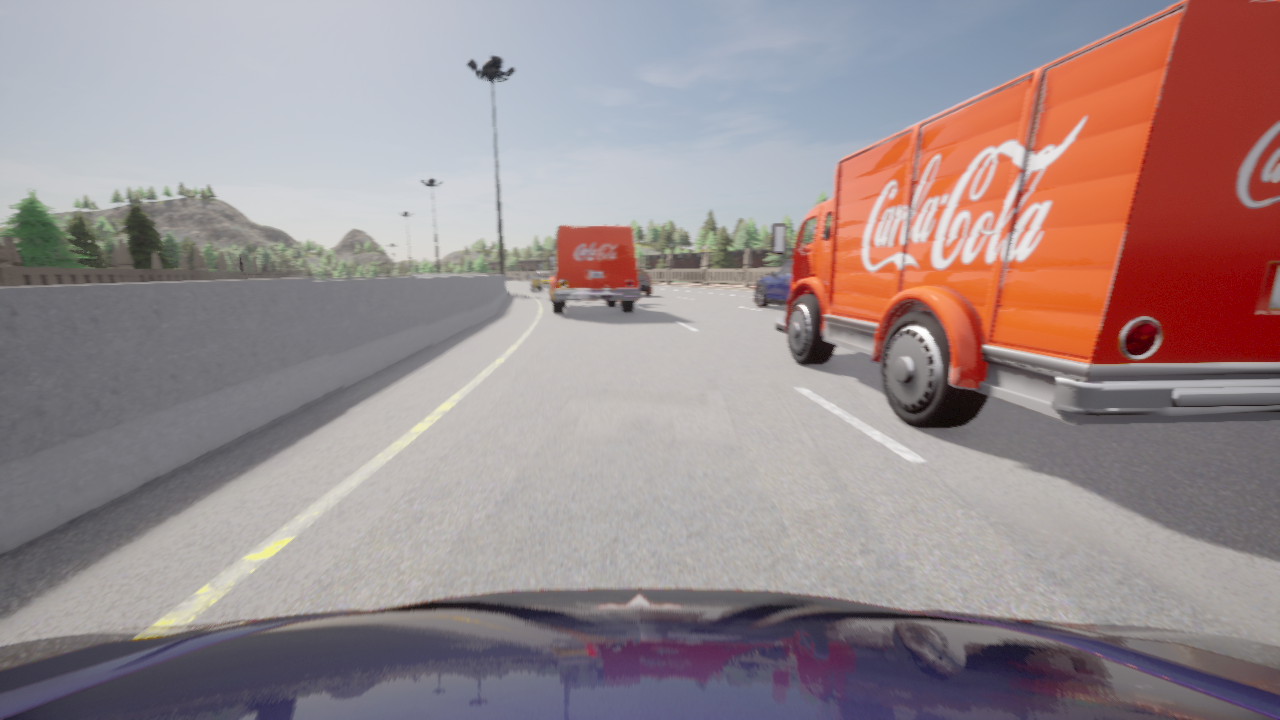cyclist: (771, 0, 1279, 428), (0, 588, 1279, 719), (549, 225, 640, 313), (754, 259, 792, 306), (636, 268, 651, 295), (530, 271, 550, 291)
